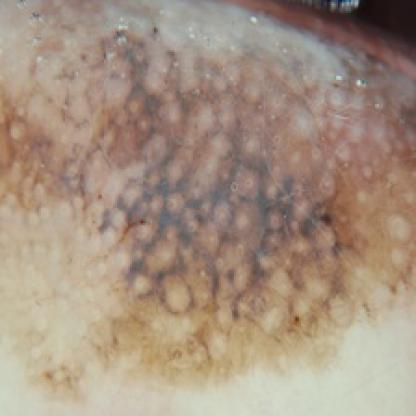malignant: (19, 20, 414, 338)
